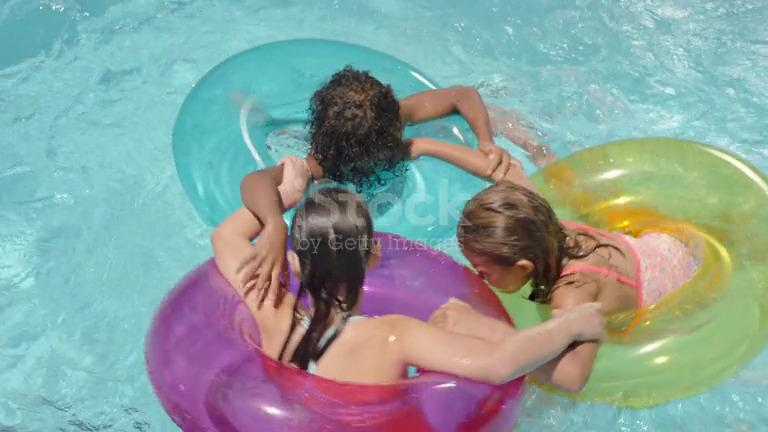Swimming: (124, 11, 471, 432), (432, 121, 761, 386)
